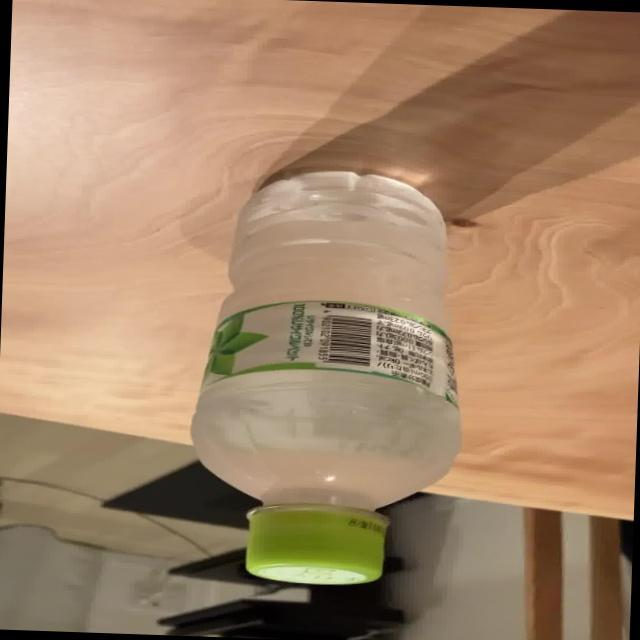good: (181, 164, 474, 591)
